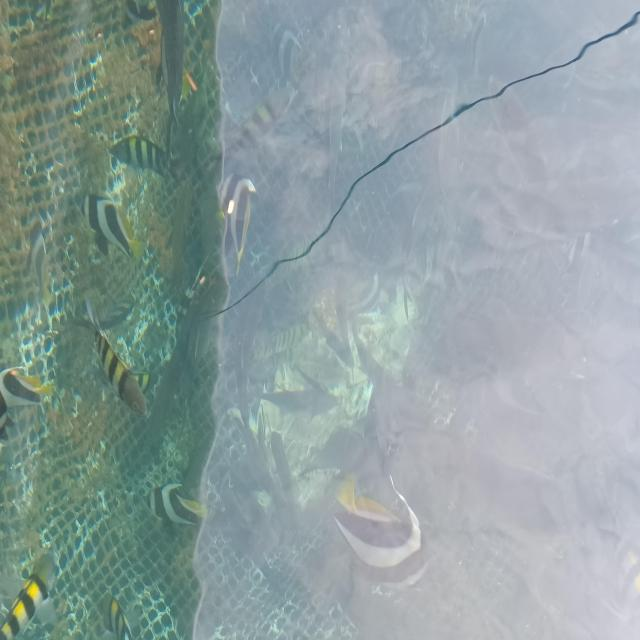ikan: (331, 472, 429, 587), (71, 298, 150, 416), (1, 549, 58, 639), (81, 192, 147, 262), (217, 172, 256, 278), (108, 133, 174, 184), (144, 482, 208, 526), (0, 366, 56, 410), (101, 590, 133, 639)
